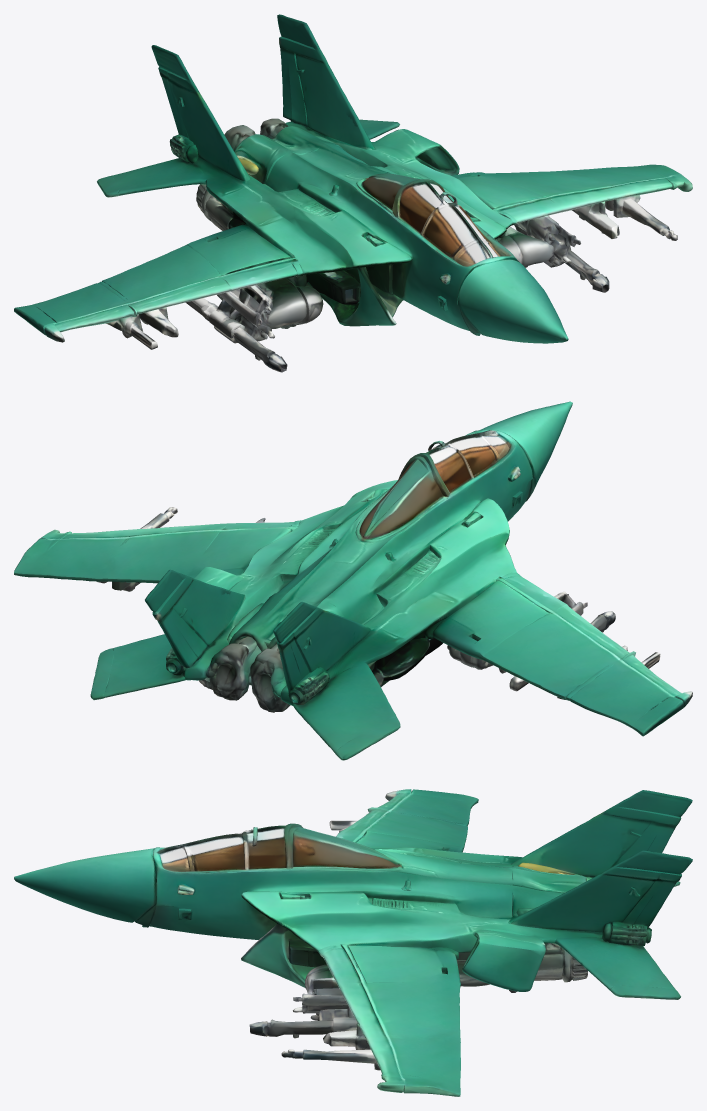
Rendered from interceptor_text2.glb.
The picture shows the model from 3 angles, top to bottom: view 1: azimuth 30°, elevation 25°; view 2: azimuth 150°, elevation 25°; view 3: azimuth 270°, elevation 25°; orthographic projection. The views are drawn at different scales.
Visible parts, largest first — view 1: model; view 2: model; view 3: model.
Part boxes in pixels (x1,y1,x2,y2): model: (14,14,692,372); model: (14,401,692,760); model: (14,789,692,1096).
Size of the model in its own units: 1.9 by 0.4351 by 1.83.
Materials: 1 (1 with a texture image).
